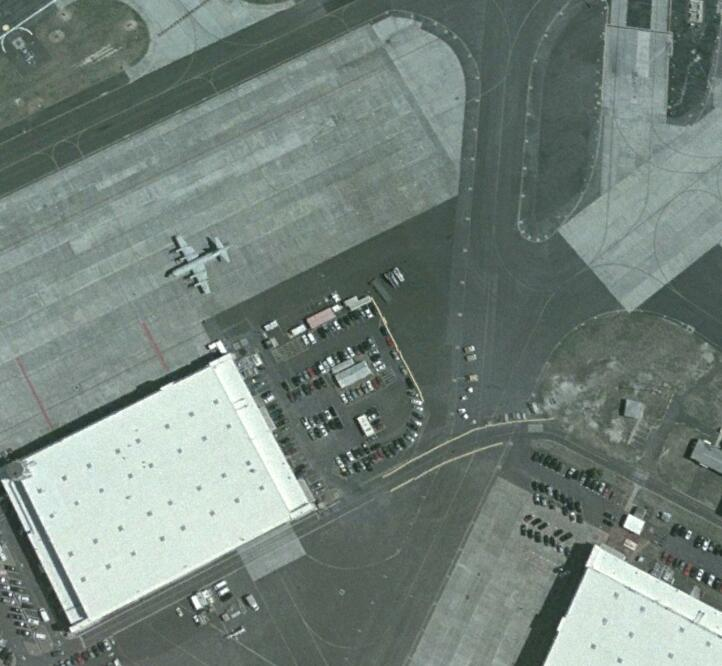A9: (164, 233, 236, 297)
